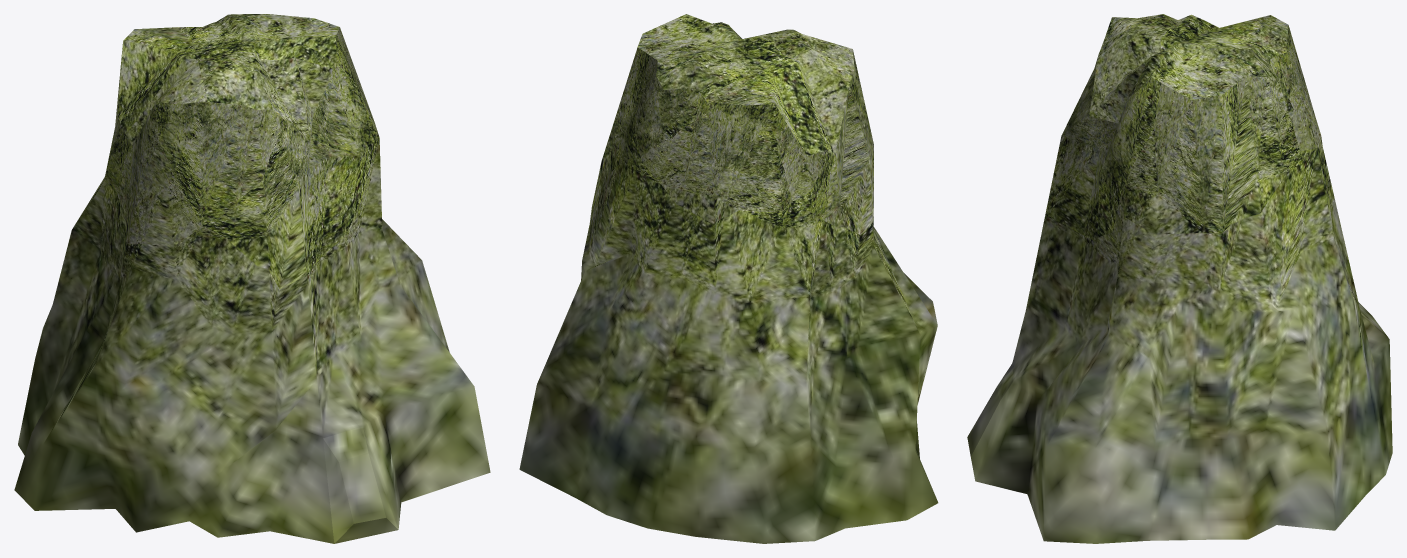
The model's file is moss_covered_rock.FBX.
3 renders of one model, left to right at view 1: azimuth 30°, elevation 25°; view 2: azimuth 150°, elevation 25°; view 3: azimuth 270°, elevation 25°, orthographic. The views are drawn at different scales.
Parts seen in each view (by area): view 1: Cone001; view 2: Cone001; view 3: Cone001.
Part boxes in pixels (<box>): Cone001: <box>14,14,490,543</box>; Cone001: <box>519,14,938,543</box>; Cone001: <box>967,14,1392,543</box>.
Size of the model in its own units: 27.44 by 26.45 by 29.17.
Materials: 1 (1 with a texture image).
